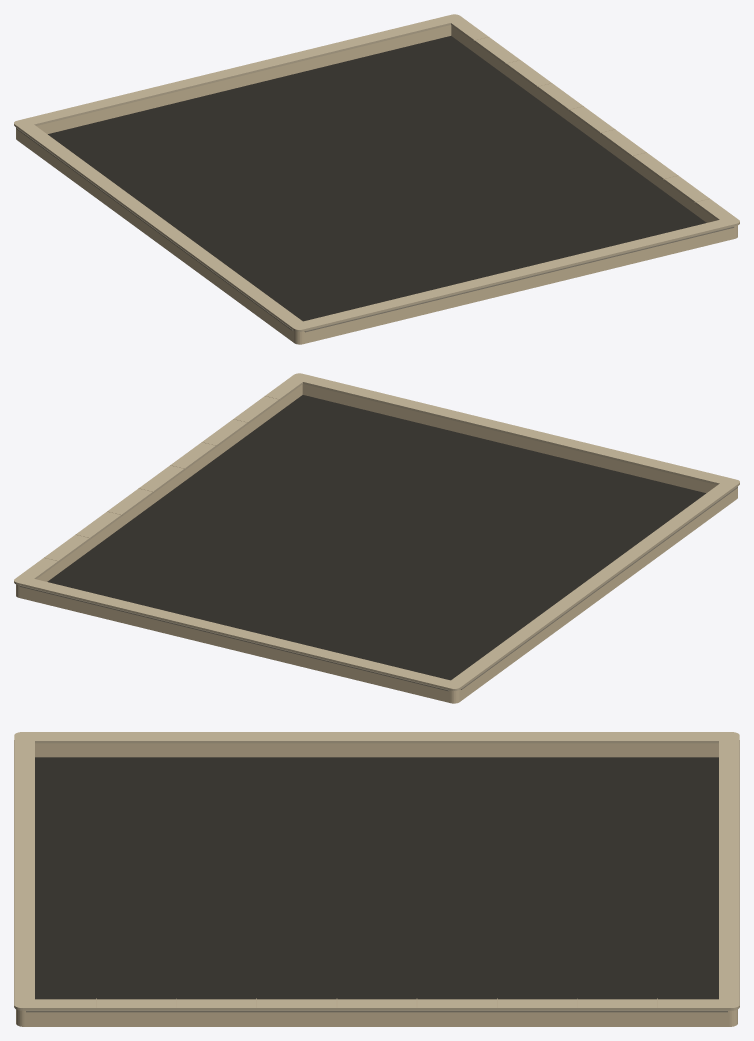
Rendered from SM_Homes_H04_Roof.fbx.
3 views of the same model, one above another, from view 1: azimuth 30°, elevation 25°; view 2: azimuth 150°, elevation 25°; view 3: azimuth 270°, elevation 25° (orthographic). The views are drawn at different scales.
Parts seen in each view (by area): view 1: SM_Homes_H04_Roof; view 2: SM_Homes_H04_Roof; view 3: SM_Homes_H04_Roof.
Part boxes in pixels (x1,y1,x2,y2): SM_Homes_H04_Roof: [14, 14, 739, 344]; SM_Homes_H04_Roof: [14, 373, 739, 703]; SM_Homes_H04_Roof: [14, 732, 739, 1026].
Bounding box in the file's own units: 9.06 × 10.06 × 0.344.
